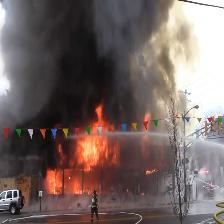fire: (64, 112, 126, 191)
smoke: (10, 0, 178, 110)
